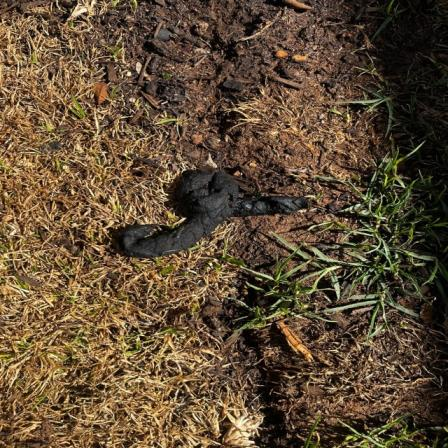dog-poop: (113, 165, 313, 259)
